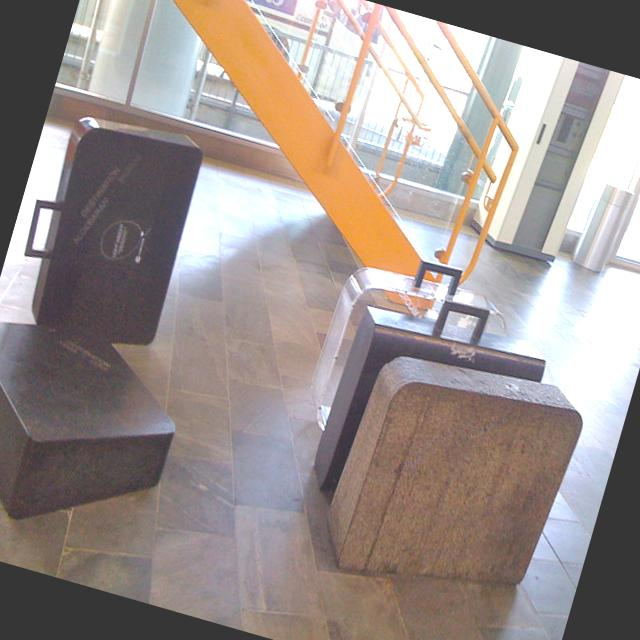Vehicle: (189, 0, 389, 117)
